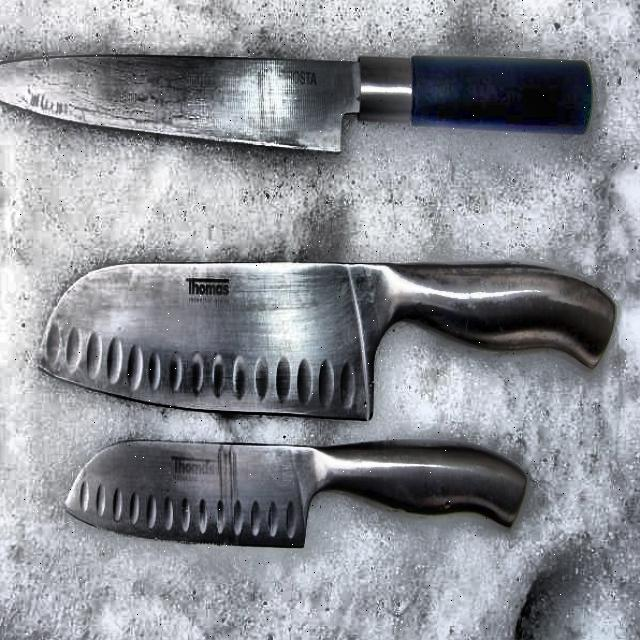knife: (40, 252, 617, 420), (64, 424, 530, 554), (0, 54, 597, 146)
